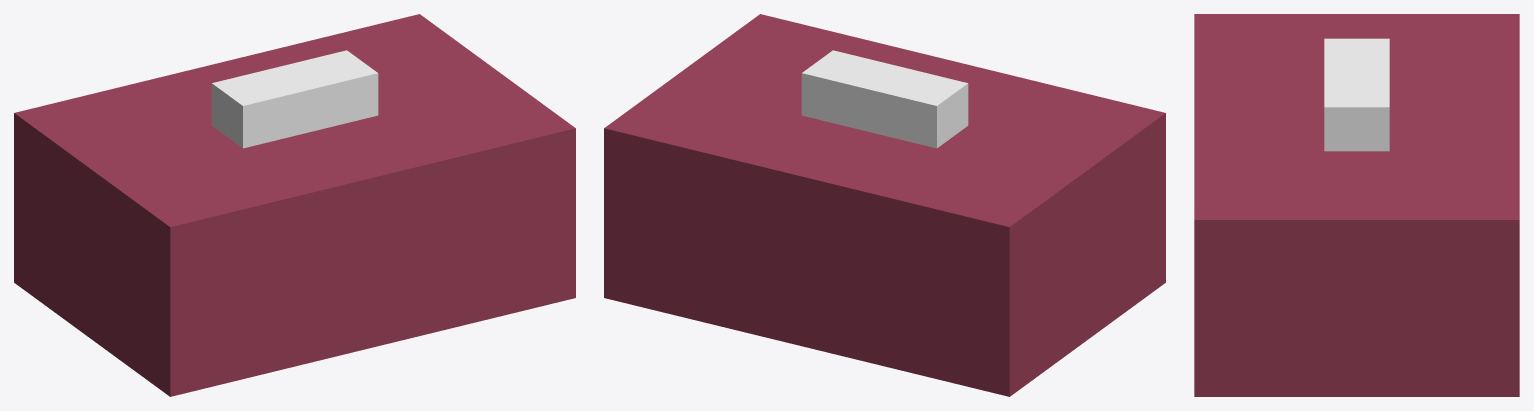
Rendered from jewelry_box.gltf.
3 views of the same model, side by side, from view 1: azimuth 30°, elevation 25°; view 2: azimuth 150°, elevation 25°; view 3: azimuth 270°, elevation 25° (orthographic). The views are drawn at different scales.
Visible parts, largest first — view 1: jewelry_box; view 2: jewelry_box; view 3: jewelry_box.
Boxes of the visible parts, x1,y1,x2,y2 form: jewelry_box: [14, 14, 575, 396]; jewelry_box: [604, 14, 1165, 396]; jewelry_box: [1194, 14, 1519, 396].
Size of the model in its own units: 0.3 by 0.15 by 0.2.
